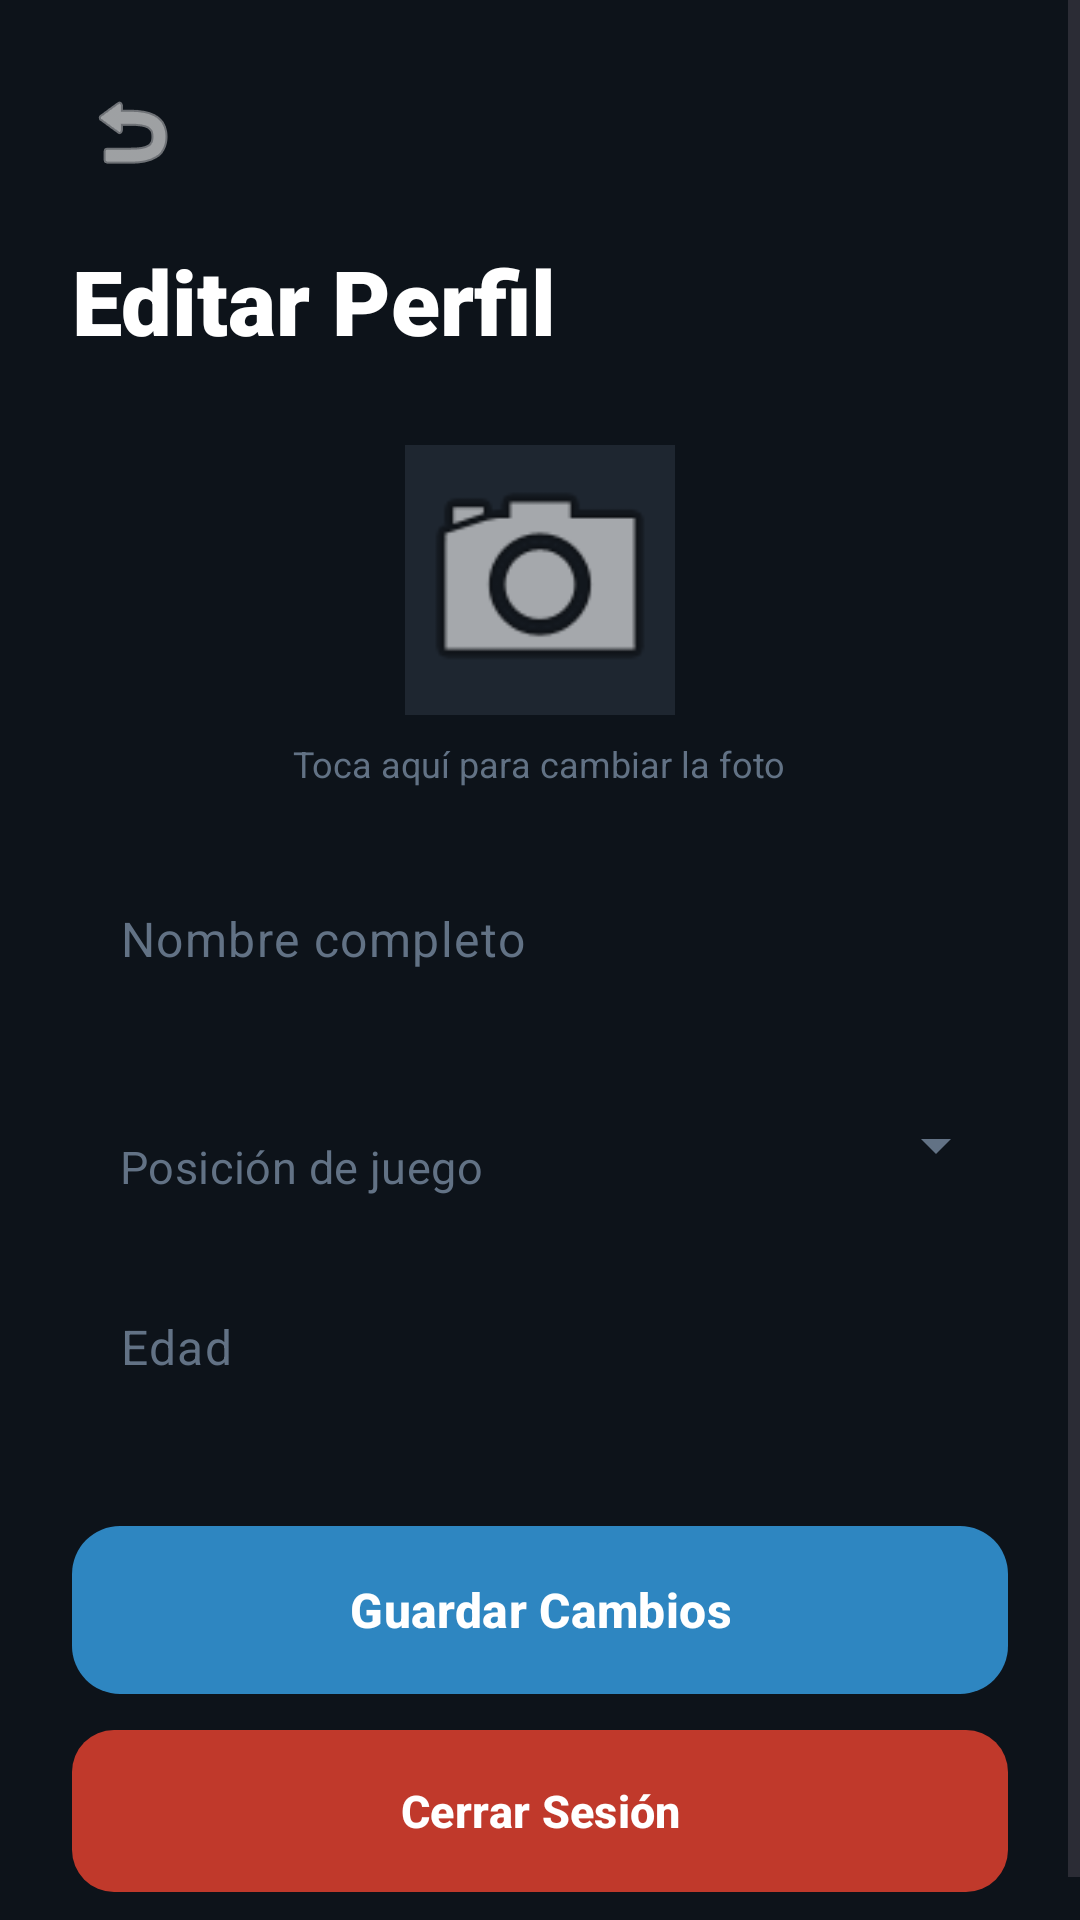

Named icons in this screenshot (1080px x 1920px) and their bounding boxes, (x1, y1, x2, y2):
camera: (444, 501, 636, 651)
revert: (99, 101, 168, 164)
